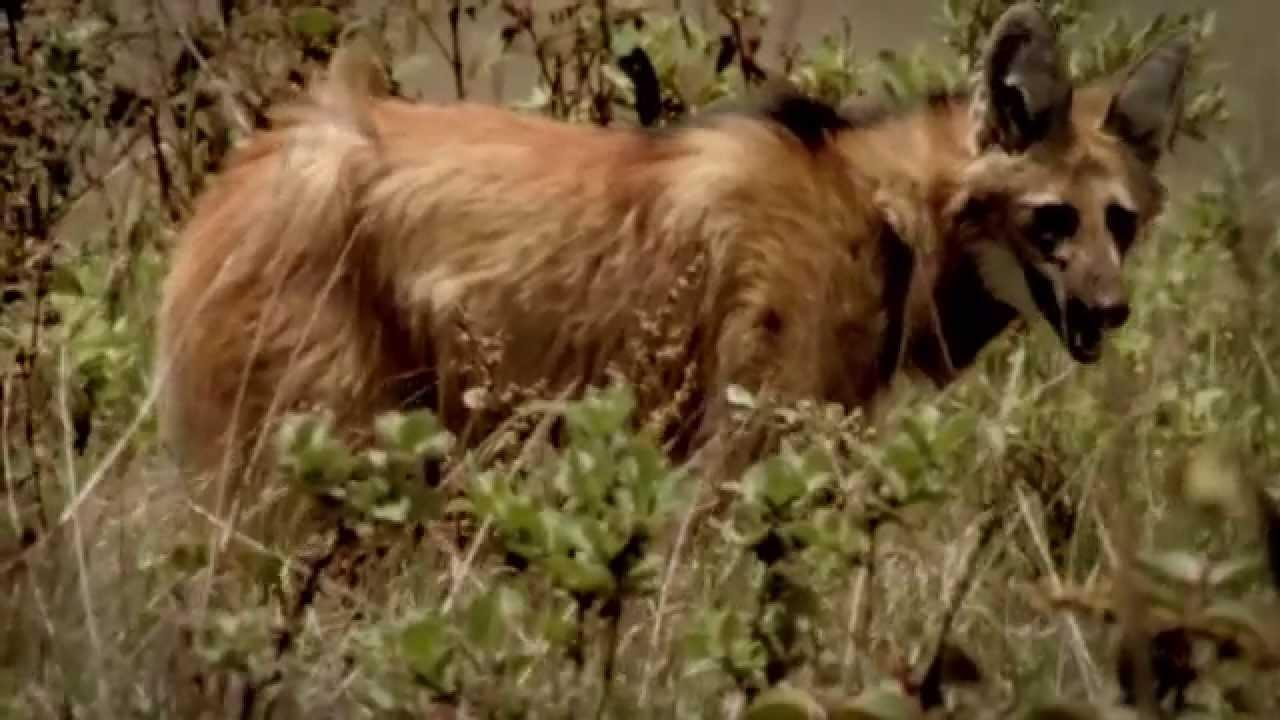LoboGuara: (147, 11, 1197, 443)
